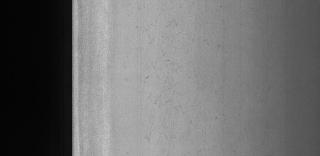silk spot: (128, 9, 212, 131)
